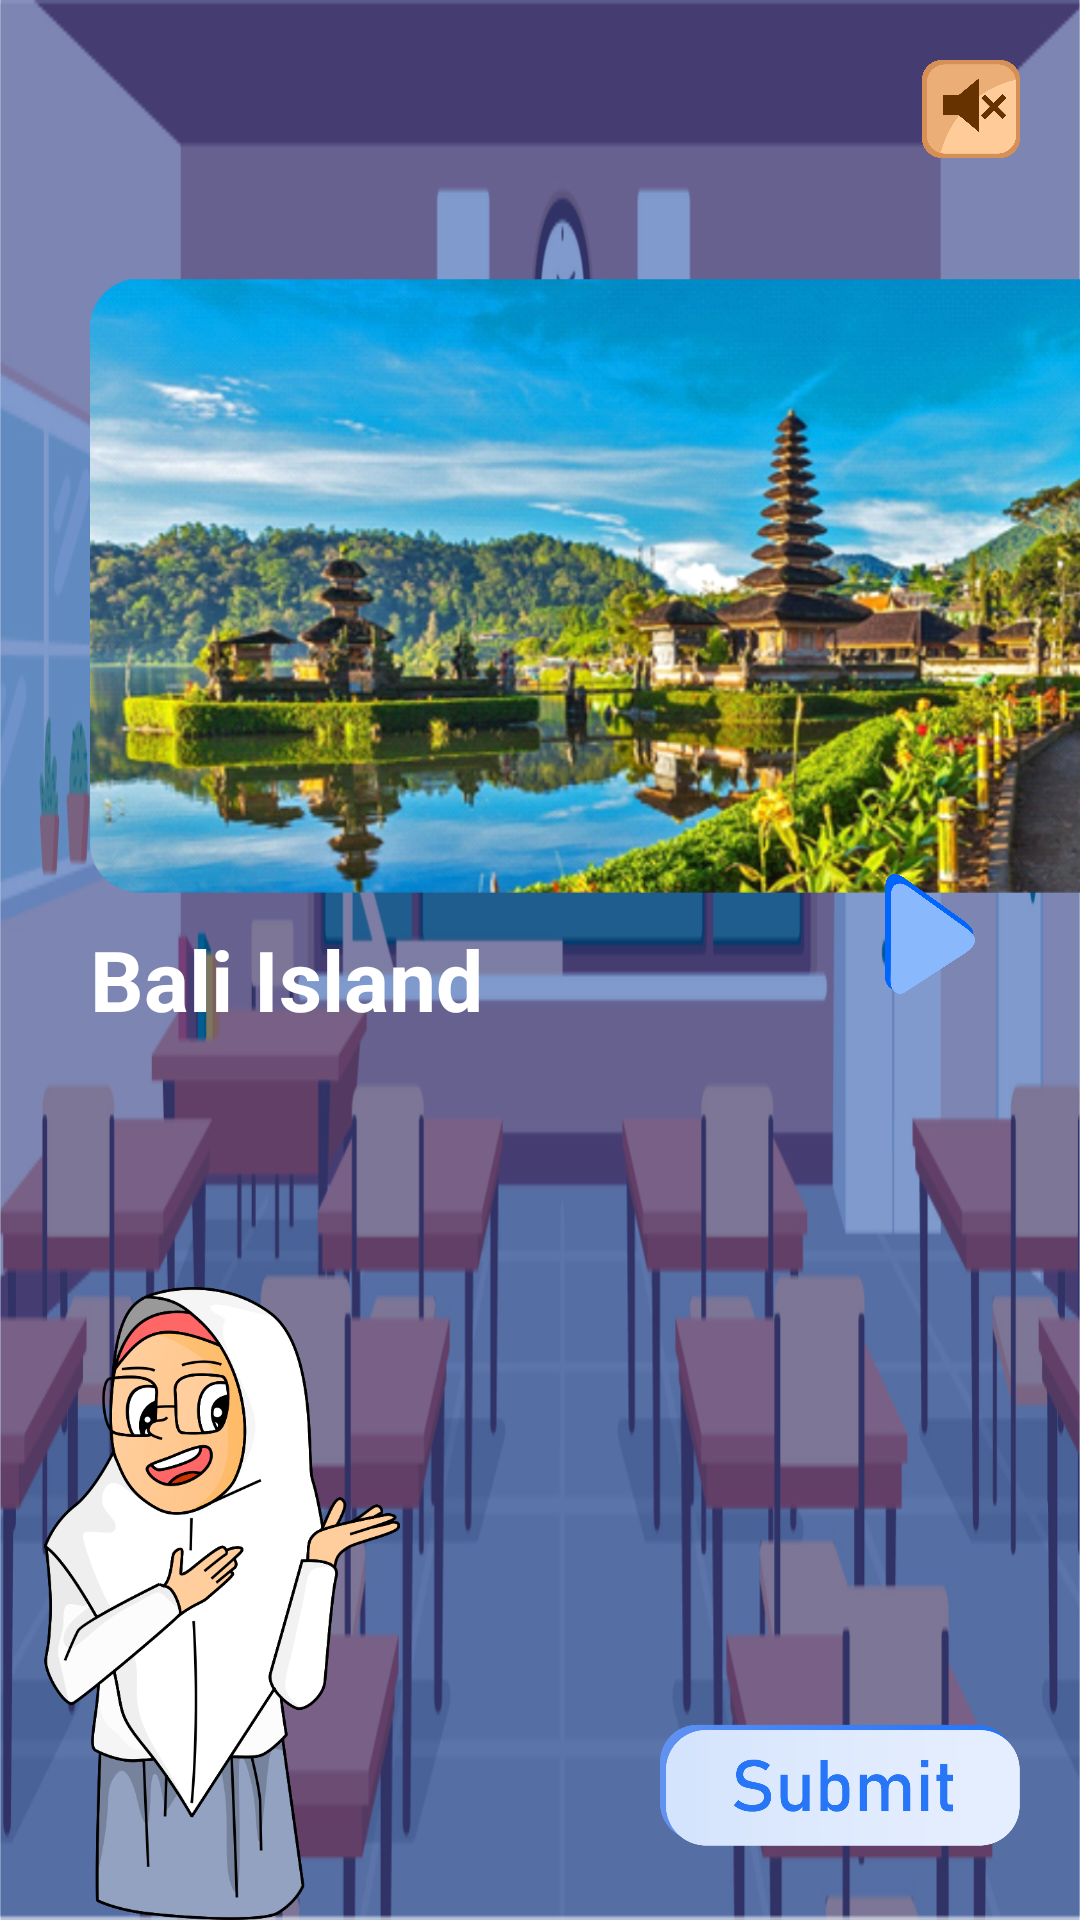

Point at icon controls on the screen. Image size 1080px x 1920px, points as [x,y].
sound of: [971,109]
